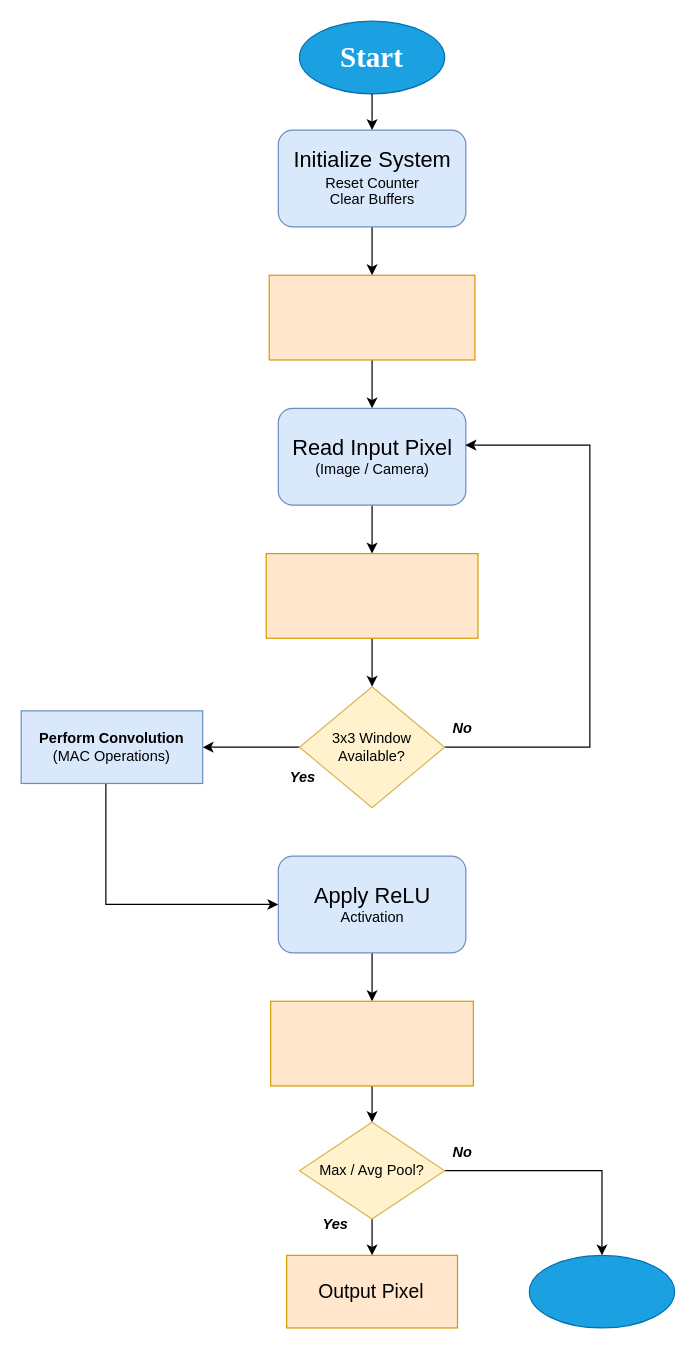
The diagram is 696 pixels wide and 1349 high, and some of its shapes have lost their labels. Here are the shapes that lost their labels. From the top down, the centre of each, then its label:
At pixel 371 317: "Load CNN Weights into registers".
At pixel 371 595: "Update Line Buffers Shift Pixel Rows".
At pixel 371 1043: "Pooling Window Full?".
At pixel 601 1291: "End".
